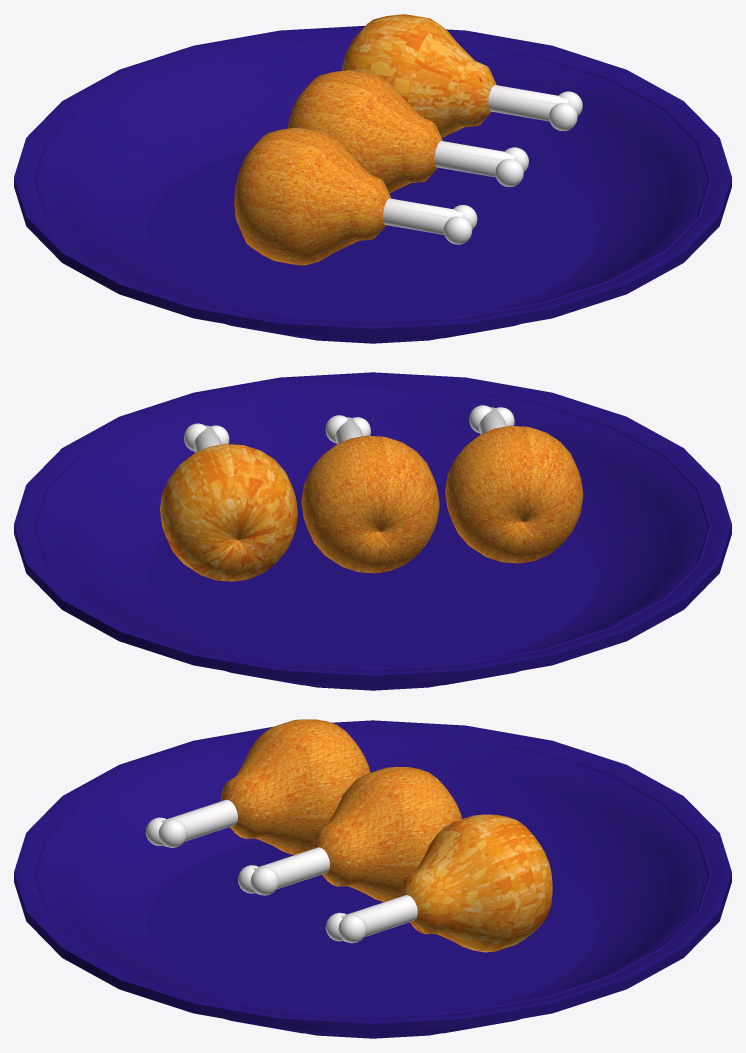
File: Paha ayam.fbx
3 renders of one model, top to bottom at view 1: azimuth 30°, elevation 25°; view 2: azimuth 150°, elevation 25°; view 3: azimuth 270°, elevation 25°, orthographic.
Visible parts, largest first — view 1: piring, Chicken leg.002, Chicken leg.001, Chicken leg; view 2: piring, Chicken leg.001, Chicken leg.002, Chicken leg; view 3: piring, Chicken leg, Chicken leg.002, Chicken leg.001.
Boxes of the visible parts, x1,y1,x2,y2 form: piring: (14, 25, 731, 343); Chicken leg.002: (234, 127, 477, 265); Chicken leg.001: (287, 70, 528, 193); Chicken leg: (341, 14, 582, 137); piring: (14, 372, 731, 690); Chicken leg.001: (301, 415, 439, 573); Chicken leg.002: (445, 405, 583, 563); Chicken leg: (160, 423, 298, 581); piring: (14, 720, 731, 1038); Chicken leg: (325, 814, 552, 952); Chicken leg.002: (145, 719, 370, 855); Chicken leg.001: (238, 767, 462, 902).
Size of the model in its own units: 9706 by 2519 by 9706.
